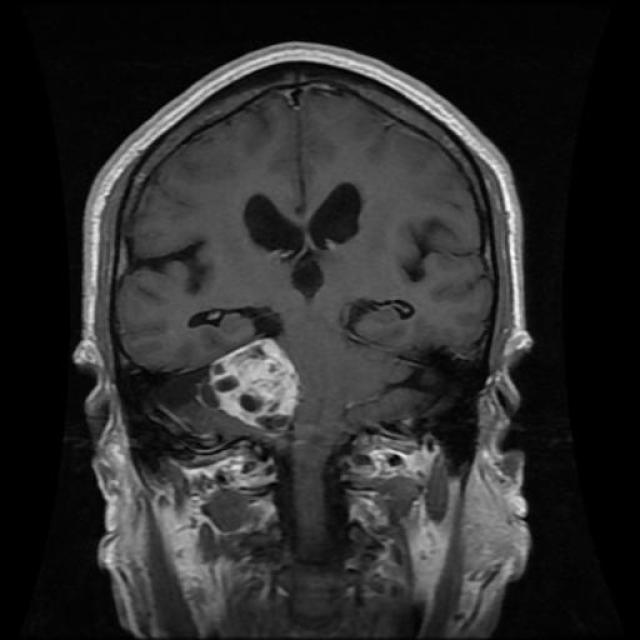Tumor: (203, 340, 305, 435)
